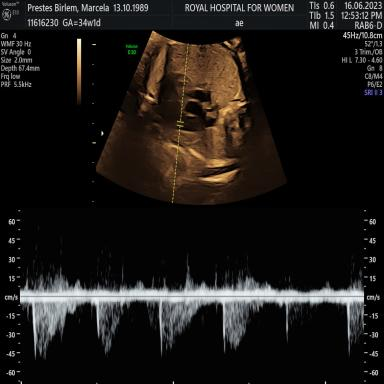Ultrasound-Waves: (23, 212, 361, 372)
